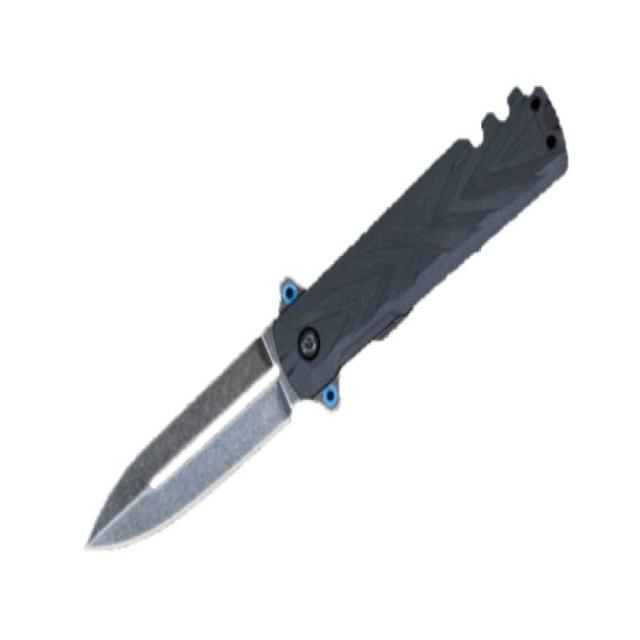knife: (83, 79, 571, 561)
